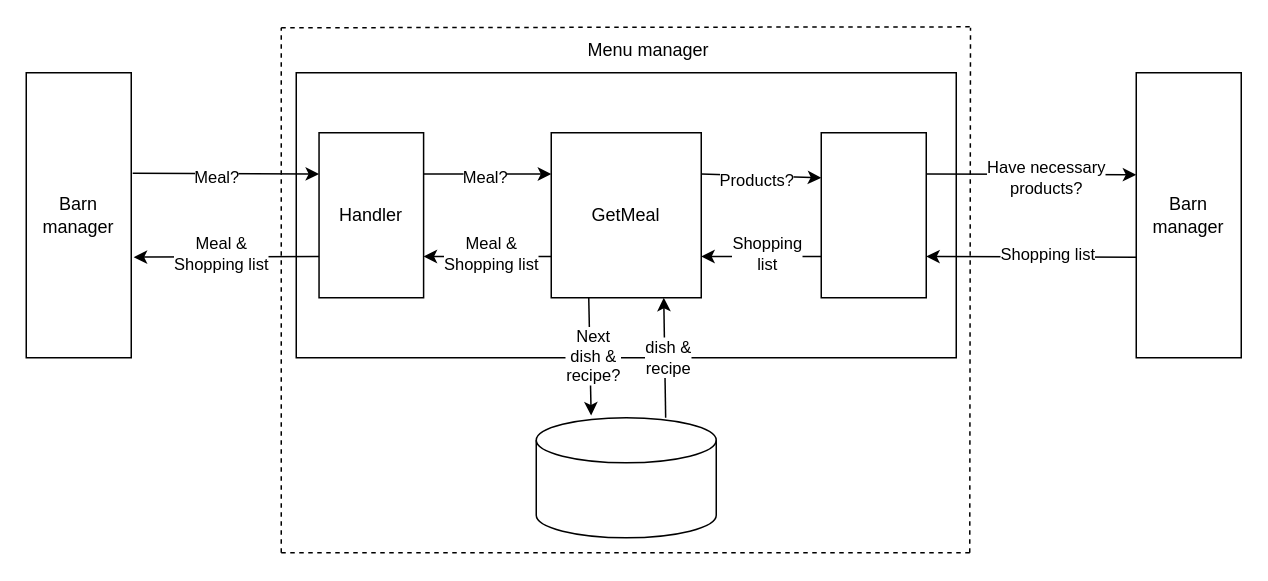
This 1268x581 diagram has some shape labels left out. Here are the shapes that lost their labels. From the top down, the centre of each, then its label:
At (873,214): "Get shopping list".
At (625,477): "MySQL_1 Menu and dishes".
